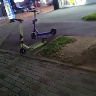beam: (26, 9, 60, 41)
gcooter: (9, 17, 50, 56)
